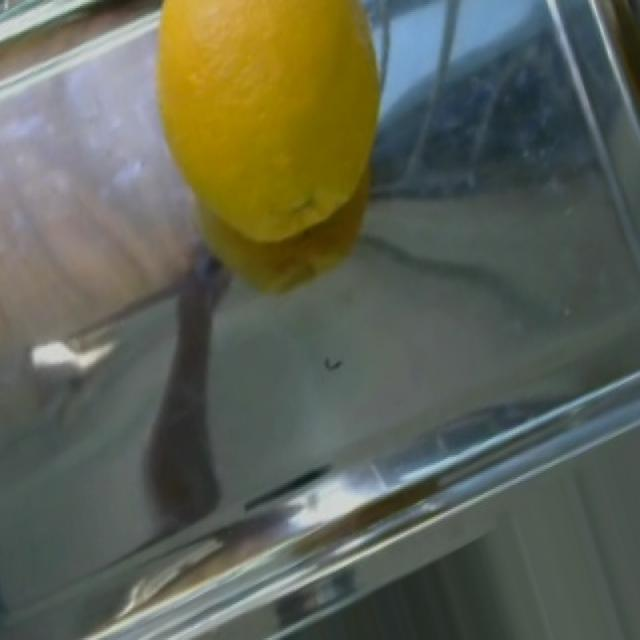Fruit: (129, 0, 405, 268), (593, 0, 640, 163)
